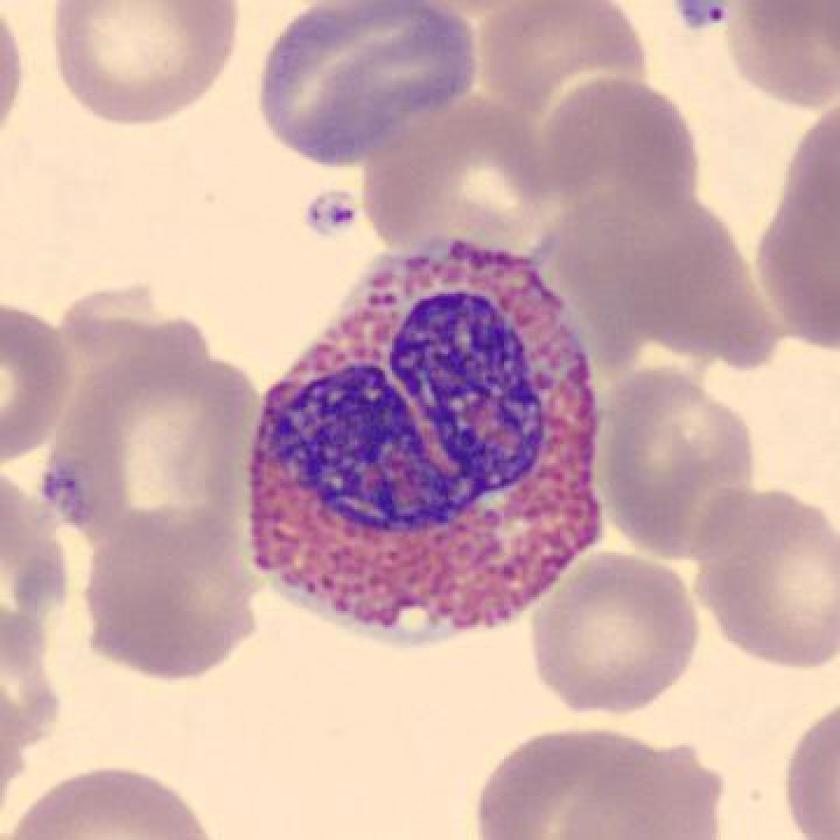eosinophil: (232, 230, 619, 665)
